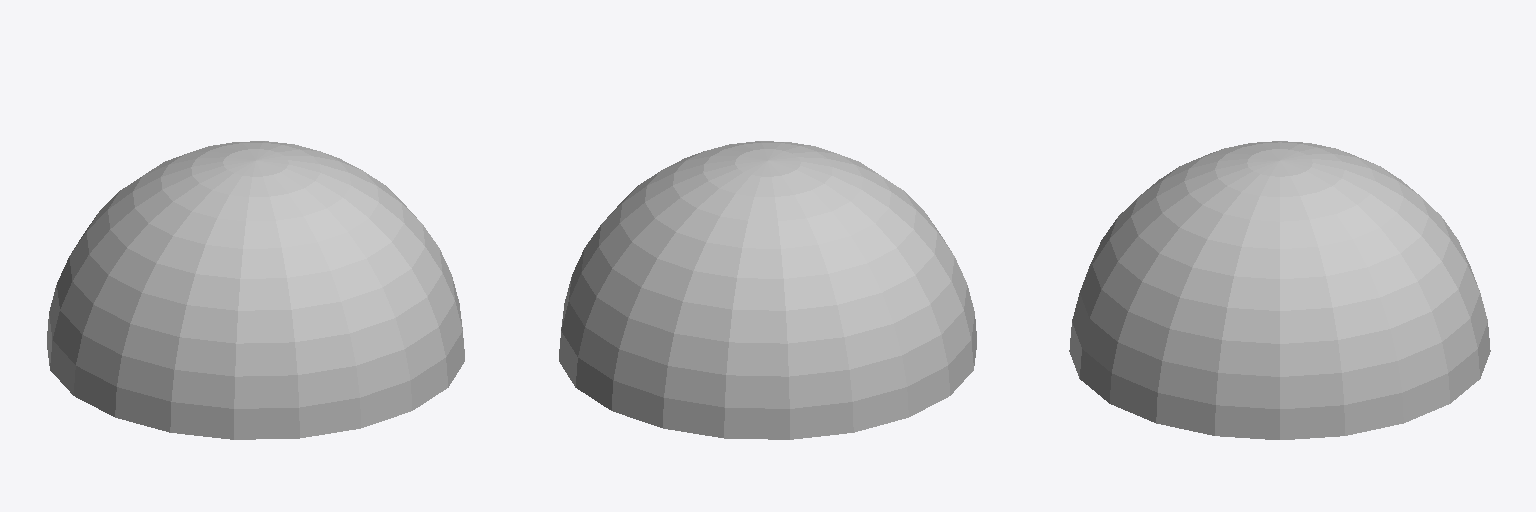
File: PokeArriba.obj
3 views of the same model, side by side, from view 1: azimuth 30°, elevation 25°; view 2: azimuth 150°, elevation 25°; view 3: azimuth 270°, elevation 25° (orthographic).
Parts seen in each view (by area): view 1: polySurface2 pSphere1; view 2: polySurface2 pSphere1; view 3: polySurface2 pSphere1.
Part boxes in pixels (bbox=[...]): polySurface2 pSphere1: bbox=[47, 141, 464, 439]; polySurface2 pSphere1: bbox=[559, 141, 976, 439]; polySurface2 pSphere1: bbox=[1069, 141, 1490, 439].
Size of the model in its own units: 2 by 1 by 2.